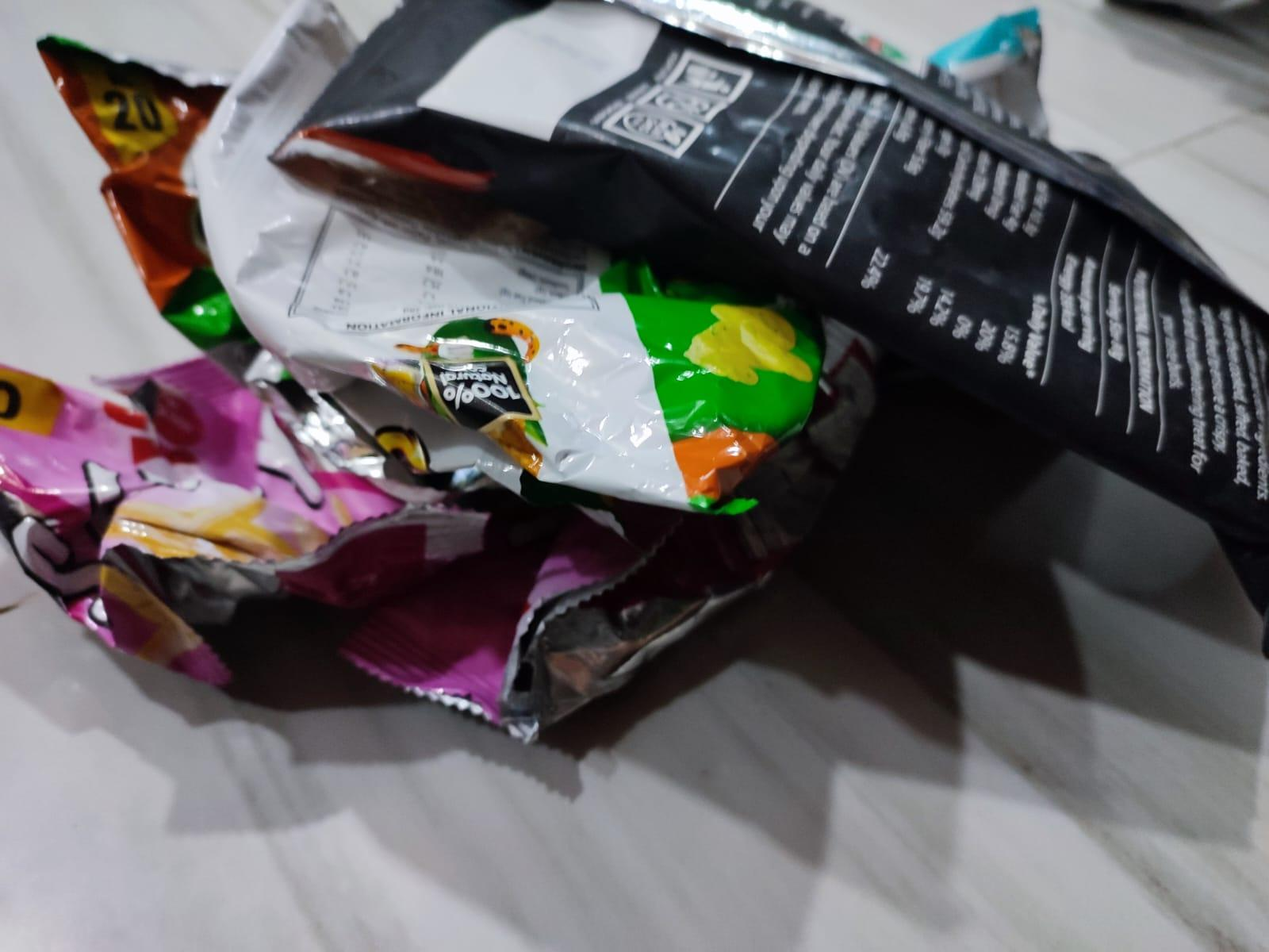garbage: (7, 0, 1269, 748)
